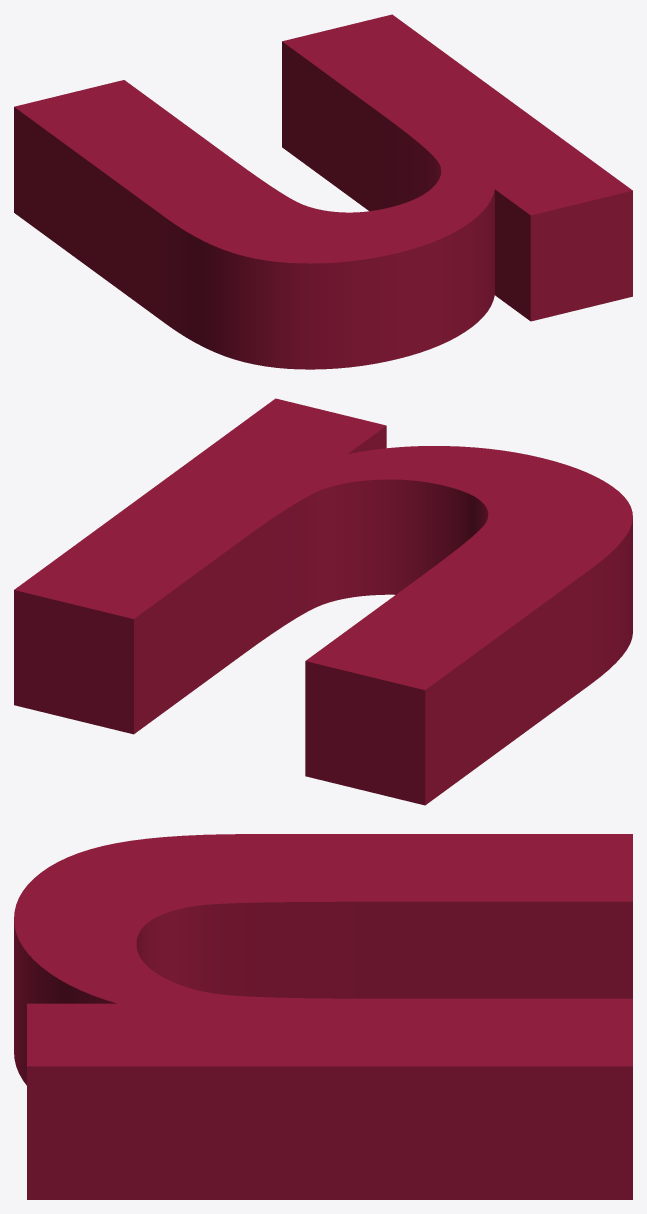
The model's file is huruf u biasa.FBX.
3 views of the same model, one above another, from view 1: azimuth 30°, elevation 25°; view 2: azimuth 150°, elevation 25°; view 3: azimuth 270°, elevation 25° (orthographic). The views are drawn at different scales.
Parts seen in each view (by area): view 1: Text001; view 2: Text001; view 3: Text001.
Boxes of the visible parts, x1,y1,x2,y2 form: Text001: [14, 14, 632, 369]; Text001: [14, 398, 632, 805]; Text001: [14, 834, 632, 1199].
Size of the model in its own units: 24.27 by 6.5 by 27.32.
